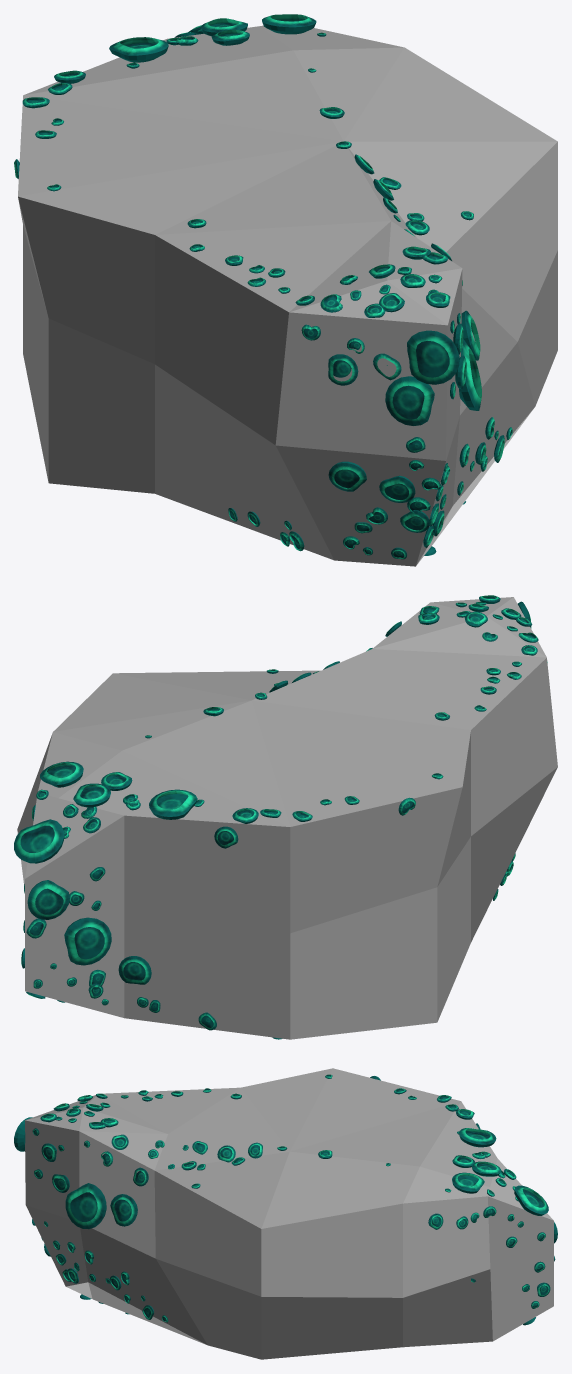
Rendered from stein2shrooms.fbx.
The picture shows the model from 3 angles, top to bottom: view 1: azimuth 30°, elevation 25°; view 2: azimuth 150°, elevation 25°; view 3: azimuth 270°, elevation 25°; orthographic projection. The views are drawn at different scales.
Visible parts, largest first — view 1: stein2, shrooms; view 2: stein2, shrooms; view 3: stein2, shrooms.
Boxes of the visible parts, bbox=[...] form: stein2: bbox=[18, 25, 557, 566]; shrooms: bbox=[14, 14, 512, 559]; stein2: bbox=[17, 597, 557, 1039]; shrooms: bbox=[14, 595, 547, 1039]; stein2: bbox=[24, 1068, 553, 1359]; shrooms: bbox=[14, 1074, 557, 1325].
Bounding box in the file's own units: 963 × 608 × 1490.
